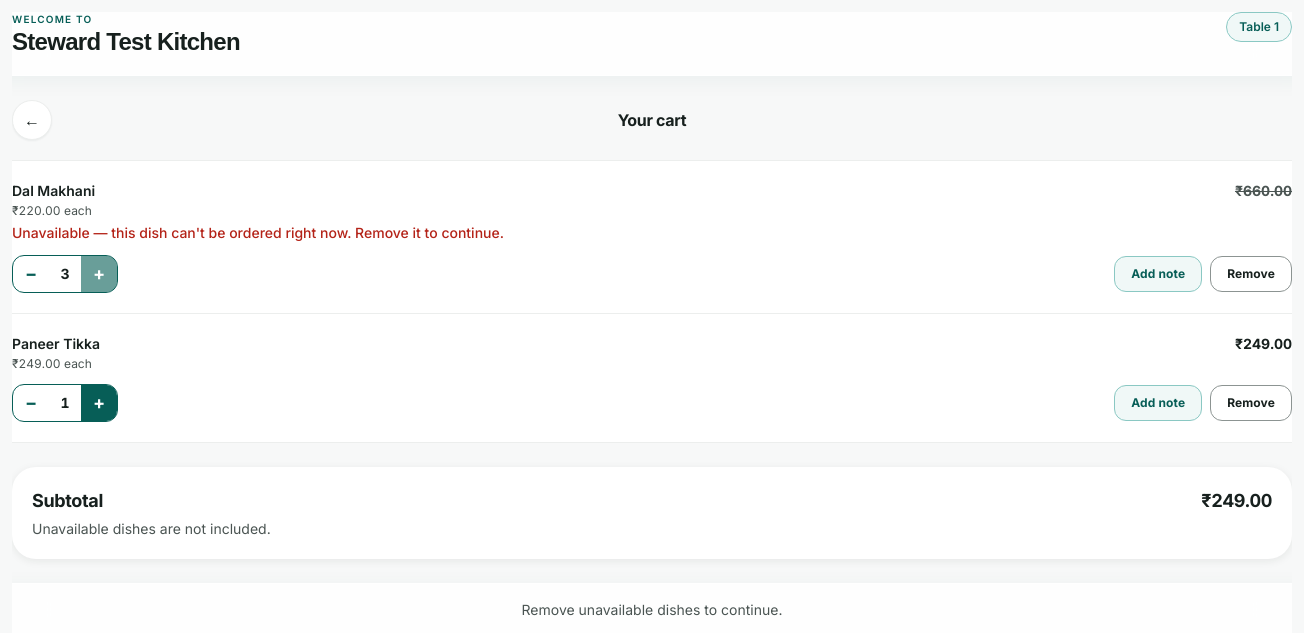
Test: the cart page › marks an unavailable line, leaves it out of the subtotal, and only lets it go down
The image size is (1304, 633).
Expected: the list item "Dal Makhani" shows "Unavailable — this dish can't be ordered right now", [12,224,504,241]
Expected: the text "Unavailable dishes are not included." is shown, [32,520,271,537]
Click the button named "Decrease Dal Makhani": (31, 274) [13,256,49,292]
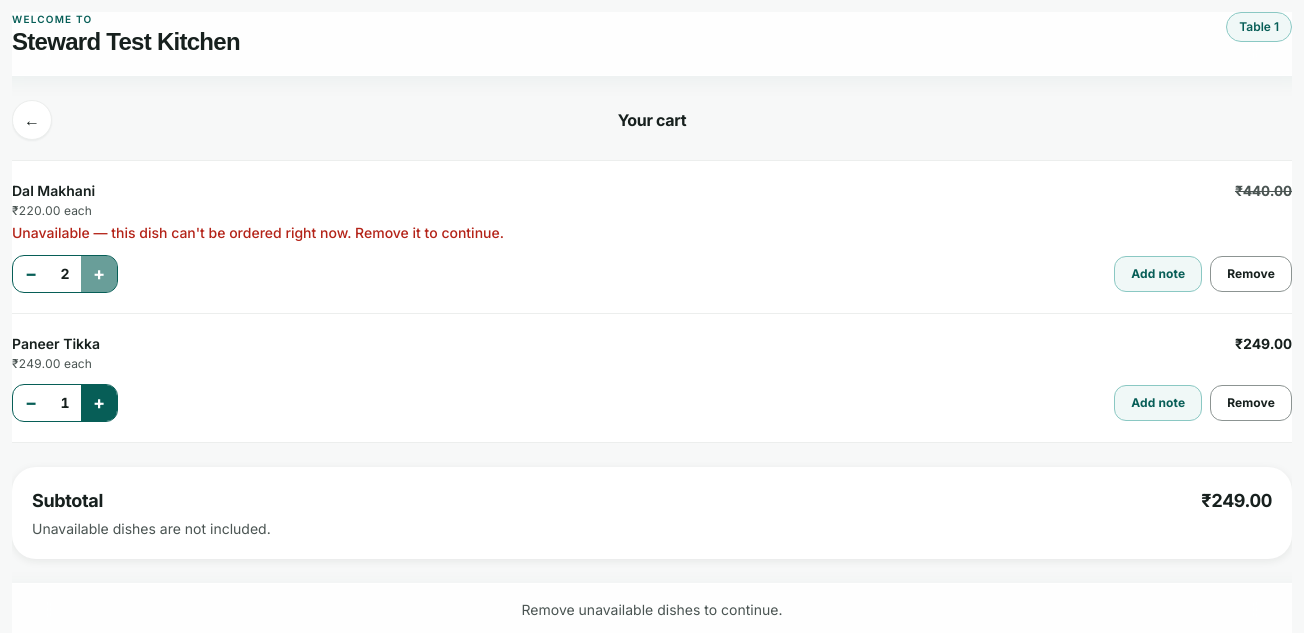
Result: the element named "Dal Makhani quantity" shows "2" at [60,265,70,282]
